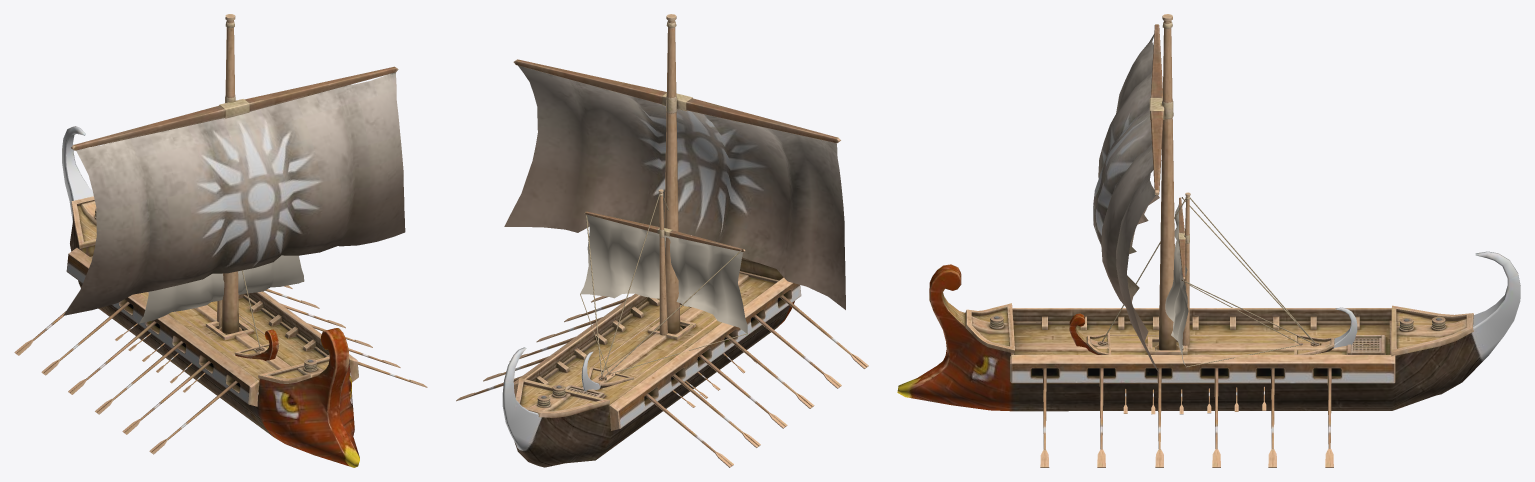
Rendered from 250-trireme.glb.
The picture shows the model from 3 angles, left to right: view 1: azimuth 30°, elevation 25°; view 2: azimuth 150°, elevation 25°; view 3: azimuth 270°, elevation 25°; orthographic projection. The views are drawn at different scales.
Size of the model in its own units: 18.96 by 19.56 by 28.32.
3 materials, 2 textured.
